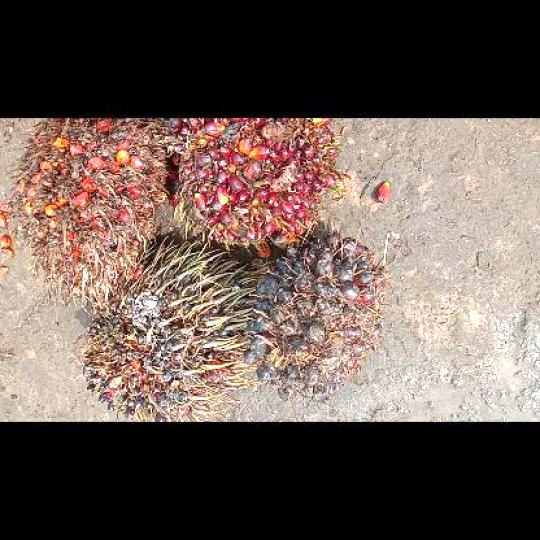masak: (179, 118, 340, 256)
terlalu masak: (14, 118, 173, 308)
